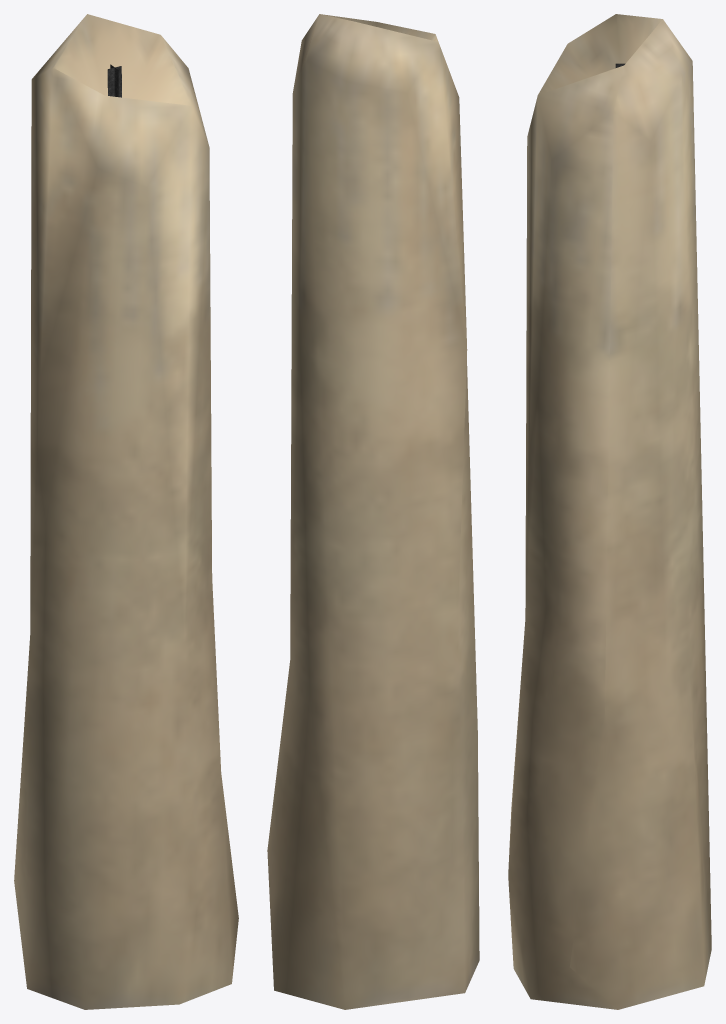
File: SM_Candle_02.gltf
3 views of the same model, side by side, from view 1: azimuth 30°, elevation 25°; view 2: azimuth 150°, elevation 25°; view 3: azimuth 270°, elevation 25° (orthographic). The views are drawn at different scales.
Parts seen in each view (by area): view 1: SM_Candle_02_LOD0; view 2: SM_Candle_02_LOD0; view 3: SM_Candle_02_LOD0.
Boxes of the visible parts, x1,y1,x2,y2 form: SM_Candle_02_LOD0: (14, 14, 238, 1009); SM_Candle_02_LOD0: (267, 14, 479, 1009); SM_Candle_02_LOD0: (508, 14, 711, 1009).
Size of what is drawn, in the model's own units: 0.1107 by 0.5283 by 0.1035.
Materials: 1 (1 with a texture image).
